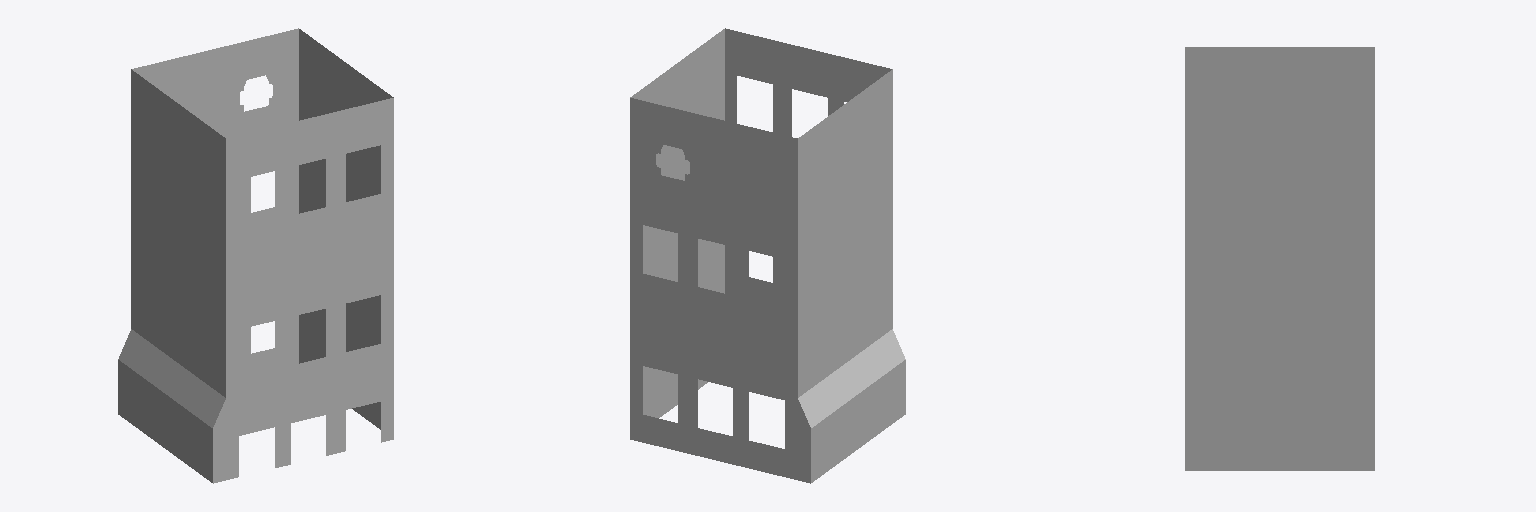
The model's file is walls.obj.
The picture shows the model from 3 angles: view 1: azimuth 30°, elevation 25°; view 2: azimuth 150°, elevation 25°; view 3: azimuth 270°, elevation 25°; orthographic projection.
Visible parts, largest first — view 1: walls group26; view 2: walls group26; view 3: walls group26.
Part boxes in pixels (left/top/right/bottom): walls group26: left=118, top=28, right=393, bottom=483; walls group26: left=630, top=28, right=905, bottom=483; walls group26: left=1185, top=47, right=1374, bottom=470.
Bounding box in the file's own units: 1302 × 2351 × 1181.